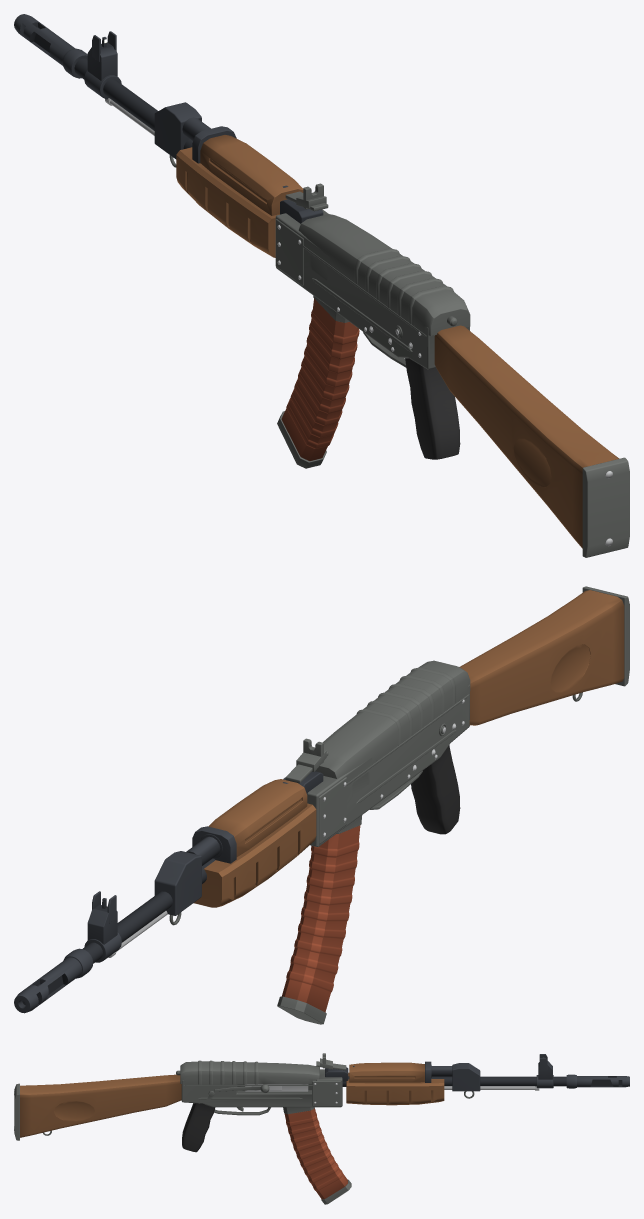
Rendered from vm_rifle.glb.
The picture shows the model from 3 angles, top to bottom: view 1: azimuth 30°, elevation 25°; view 2: azimuth 150°, elevation 25°; view 3: azimuth 270°, elevation 25°; orthographic projection. The views are drawn at different scales.
Visible parts, largest first — view 1: body_wood, body_steel_park, mag, body_steel_blued, body_polymer; view 2: body_wood, body_steel_park, body_steel_blued, mag, body_polymer; view 3: body_wood, body_steel_park, body_steel_blued, mag, body_polymer, charging, body_steel_bare.
Boxes of the visible parts, x1,y1,x2,y2 form: body_wood: (176, 135, 619, 548); body_steel_park: (169, 155, 629, 557); mag: (277, 295, 359, 468); body_steel_blued: (14, 14, 323, 223); body_polymer: (405, 358, 460, 459); body_wood: (193, 590, 624, 907); body_steel_park: (169, 586, 629, 925); body_steel_blued: (14, 771, 323, 1013); mag: (277, 815, 362, 1024); body_polymer: (411, 745, 460, 834); body_wood: (20, 1062, 444, 1137); body_steel_park: (14, 1053, 474, 1140); body_steel_blued: (325, 1054, 629, 1091); mag: (283, 1107, 351, 1204); body_polymer: (182, 1103, 215, 1152); charging: (245, 1084, 308, 1093); body_steel_bare: (14, 1083, 539, 1130).
Bounding box in the file's own units: 0.0695 × 0.3081 × 1.17.
